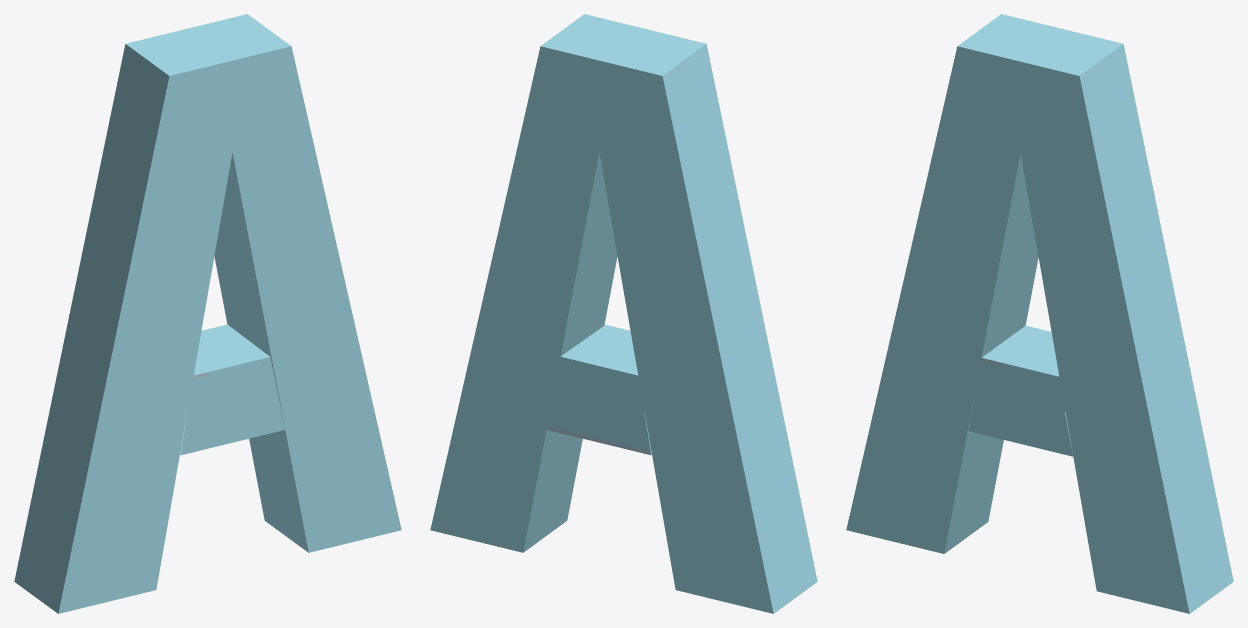
Rendered from Props-TextBanner-Bar_A.fbx.
3 views of the same model, side by side, from view 1: azimuth 30°, elevation 25°; view 2: azimuth 150°, elevation 25°; view 3: azimuth 330°, elevation 25° (orthographic).
Visible parts, largest first — view 1: Props-TextBanner-Bar_A; view 2: Props-TextBanner-Bar_A; view 3: Props-TextBanner-Bar_A.
Boxes of the visible parts, left/top/right/bottom form: Props-TextBanner-Bar_A: left=14, top=14, right=401, bottom=613; Props-TextBanner-Bar_A: left=430, top=14, right=817, bottom=613; Props-TextBanner-Bar_A: left=846, top=14, right=1233, bottom=613.
Size of the model in its own units: 24.78 by 35.24 by 5.51.
